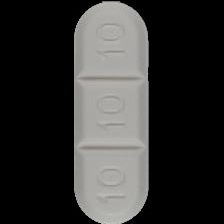51079-994: (0, 0, 224, 224)
